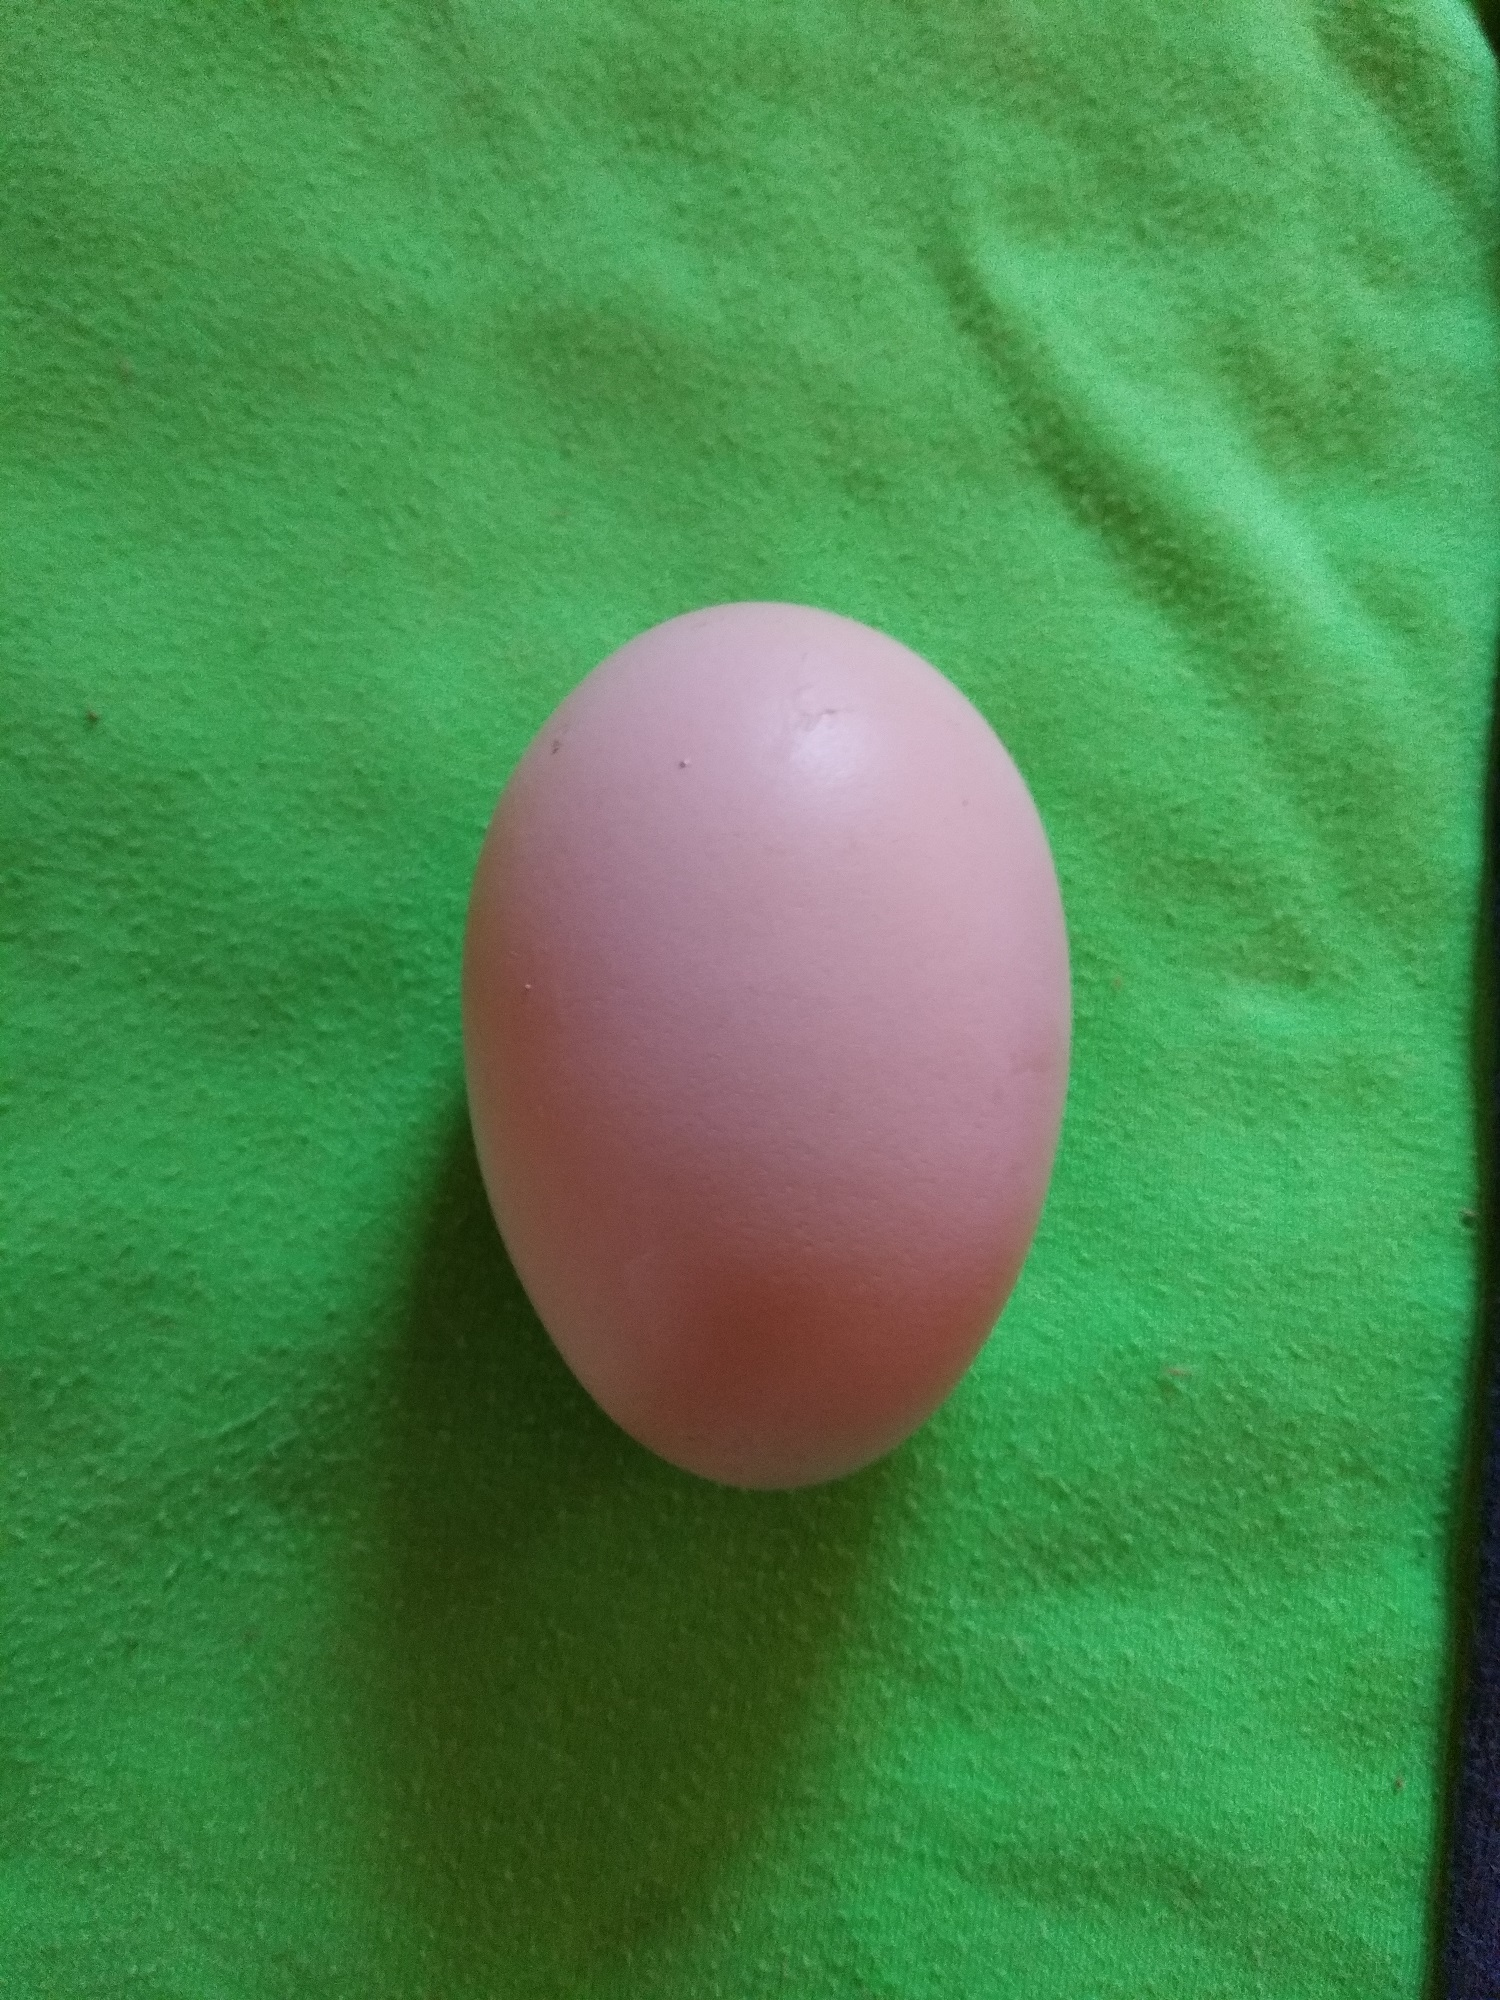Male: (454, 591, 1079, 1504)
